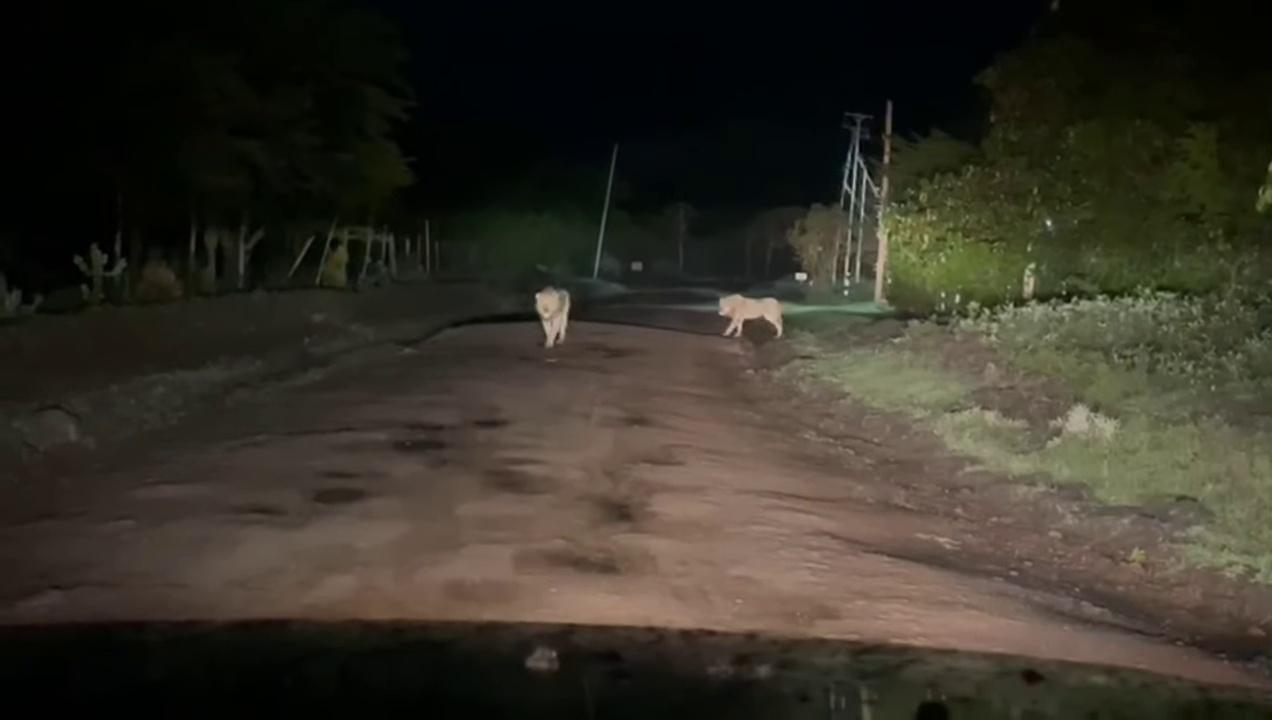lions: (505, 279, 843, 353)
